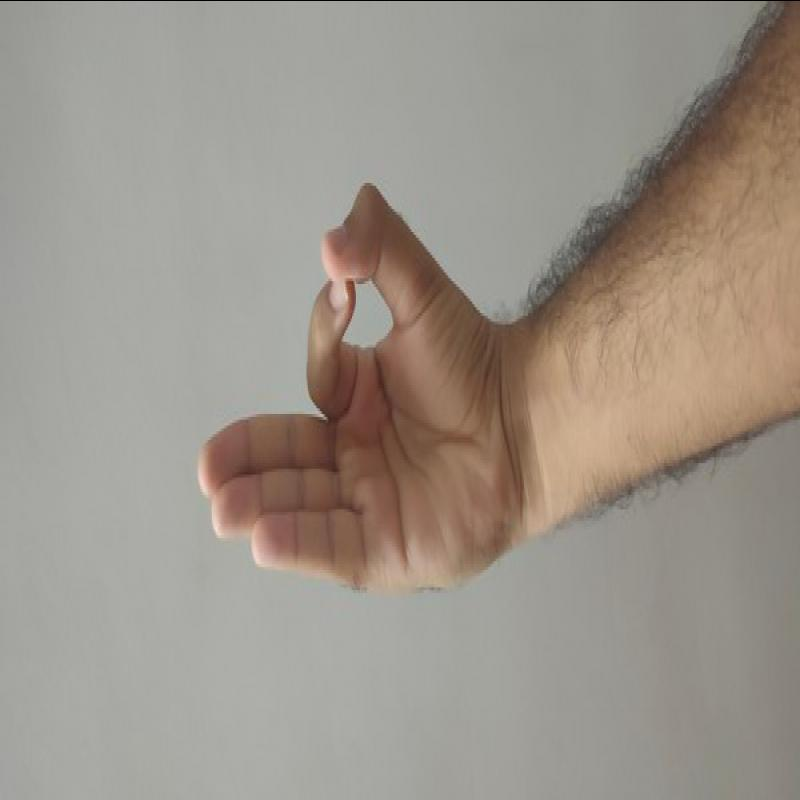Mudraakhyam: (181, 171, 526, 607)
